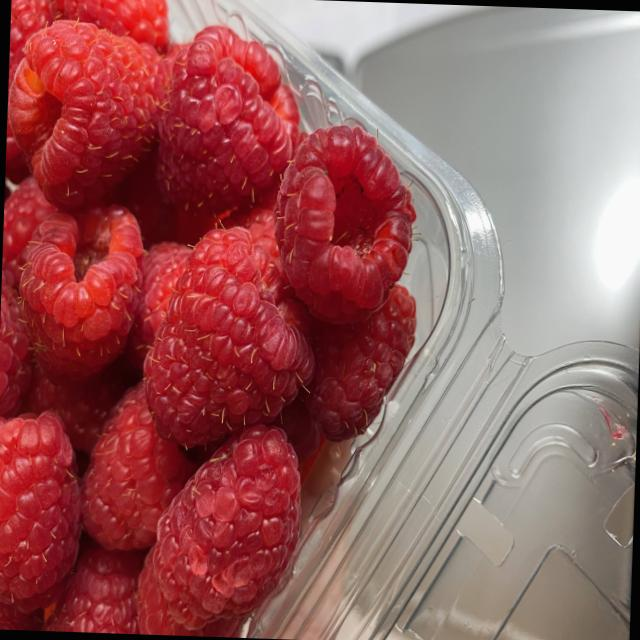raspberries: (0, 0, 419, 616)
